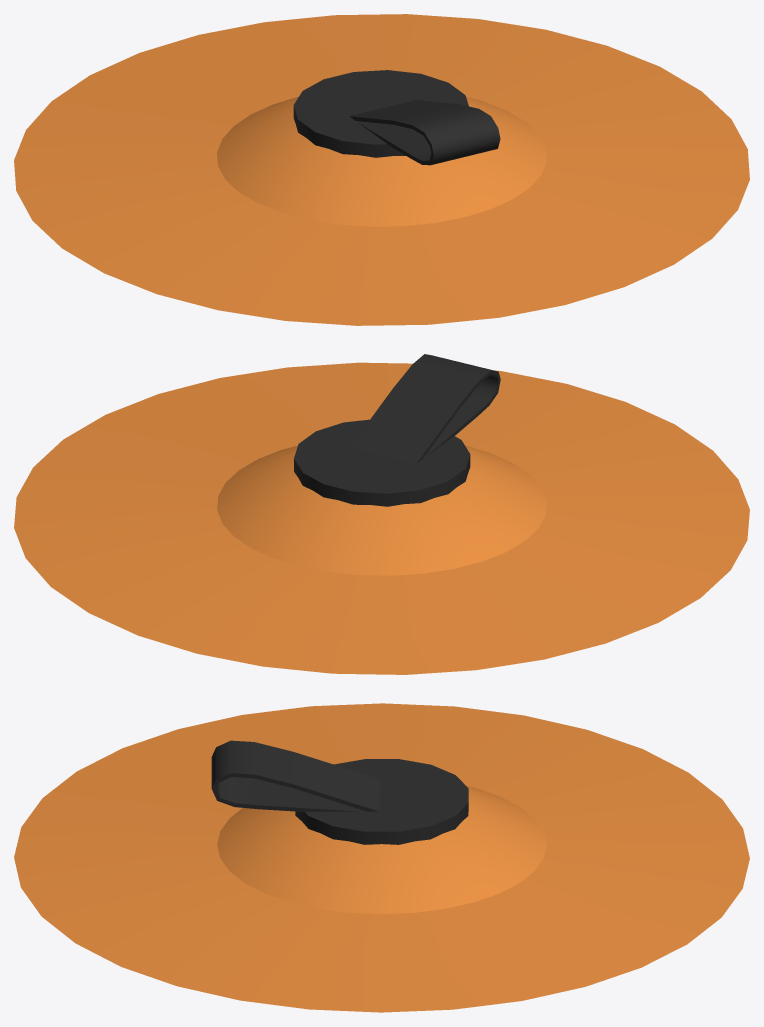
File: Cymbal_01.fbx
3 renders of one model, top to bottom at view 1: azimuth 30°, elevation 25°; view 2: azimuth 150°, elevation 25°; view 3: azimuth 270°, elevation 25°, orthographic.
Visible parts, largest first — view 1: Cymbal_01; view 2: Cymbal_01; view 3: Cymbal_01.
Part boxes in pixels (x1,y1,x2,y2): Cymbal_01: [14, 14, 749, 325]; Cymbal_01: [14, 354, 749, 674]; Cymbal_01: [14, 703, 749, 1012].
Bounding box in the file's own units: 0.5372 × 0.0821 × 0.5372.
